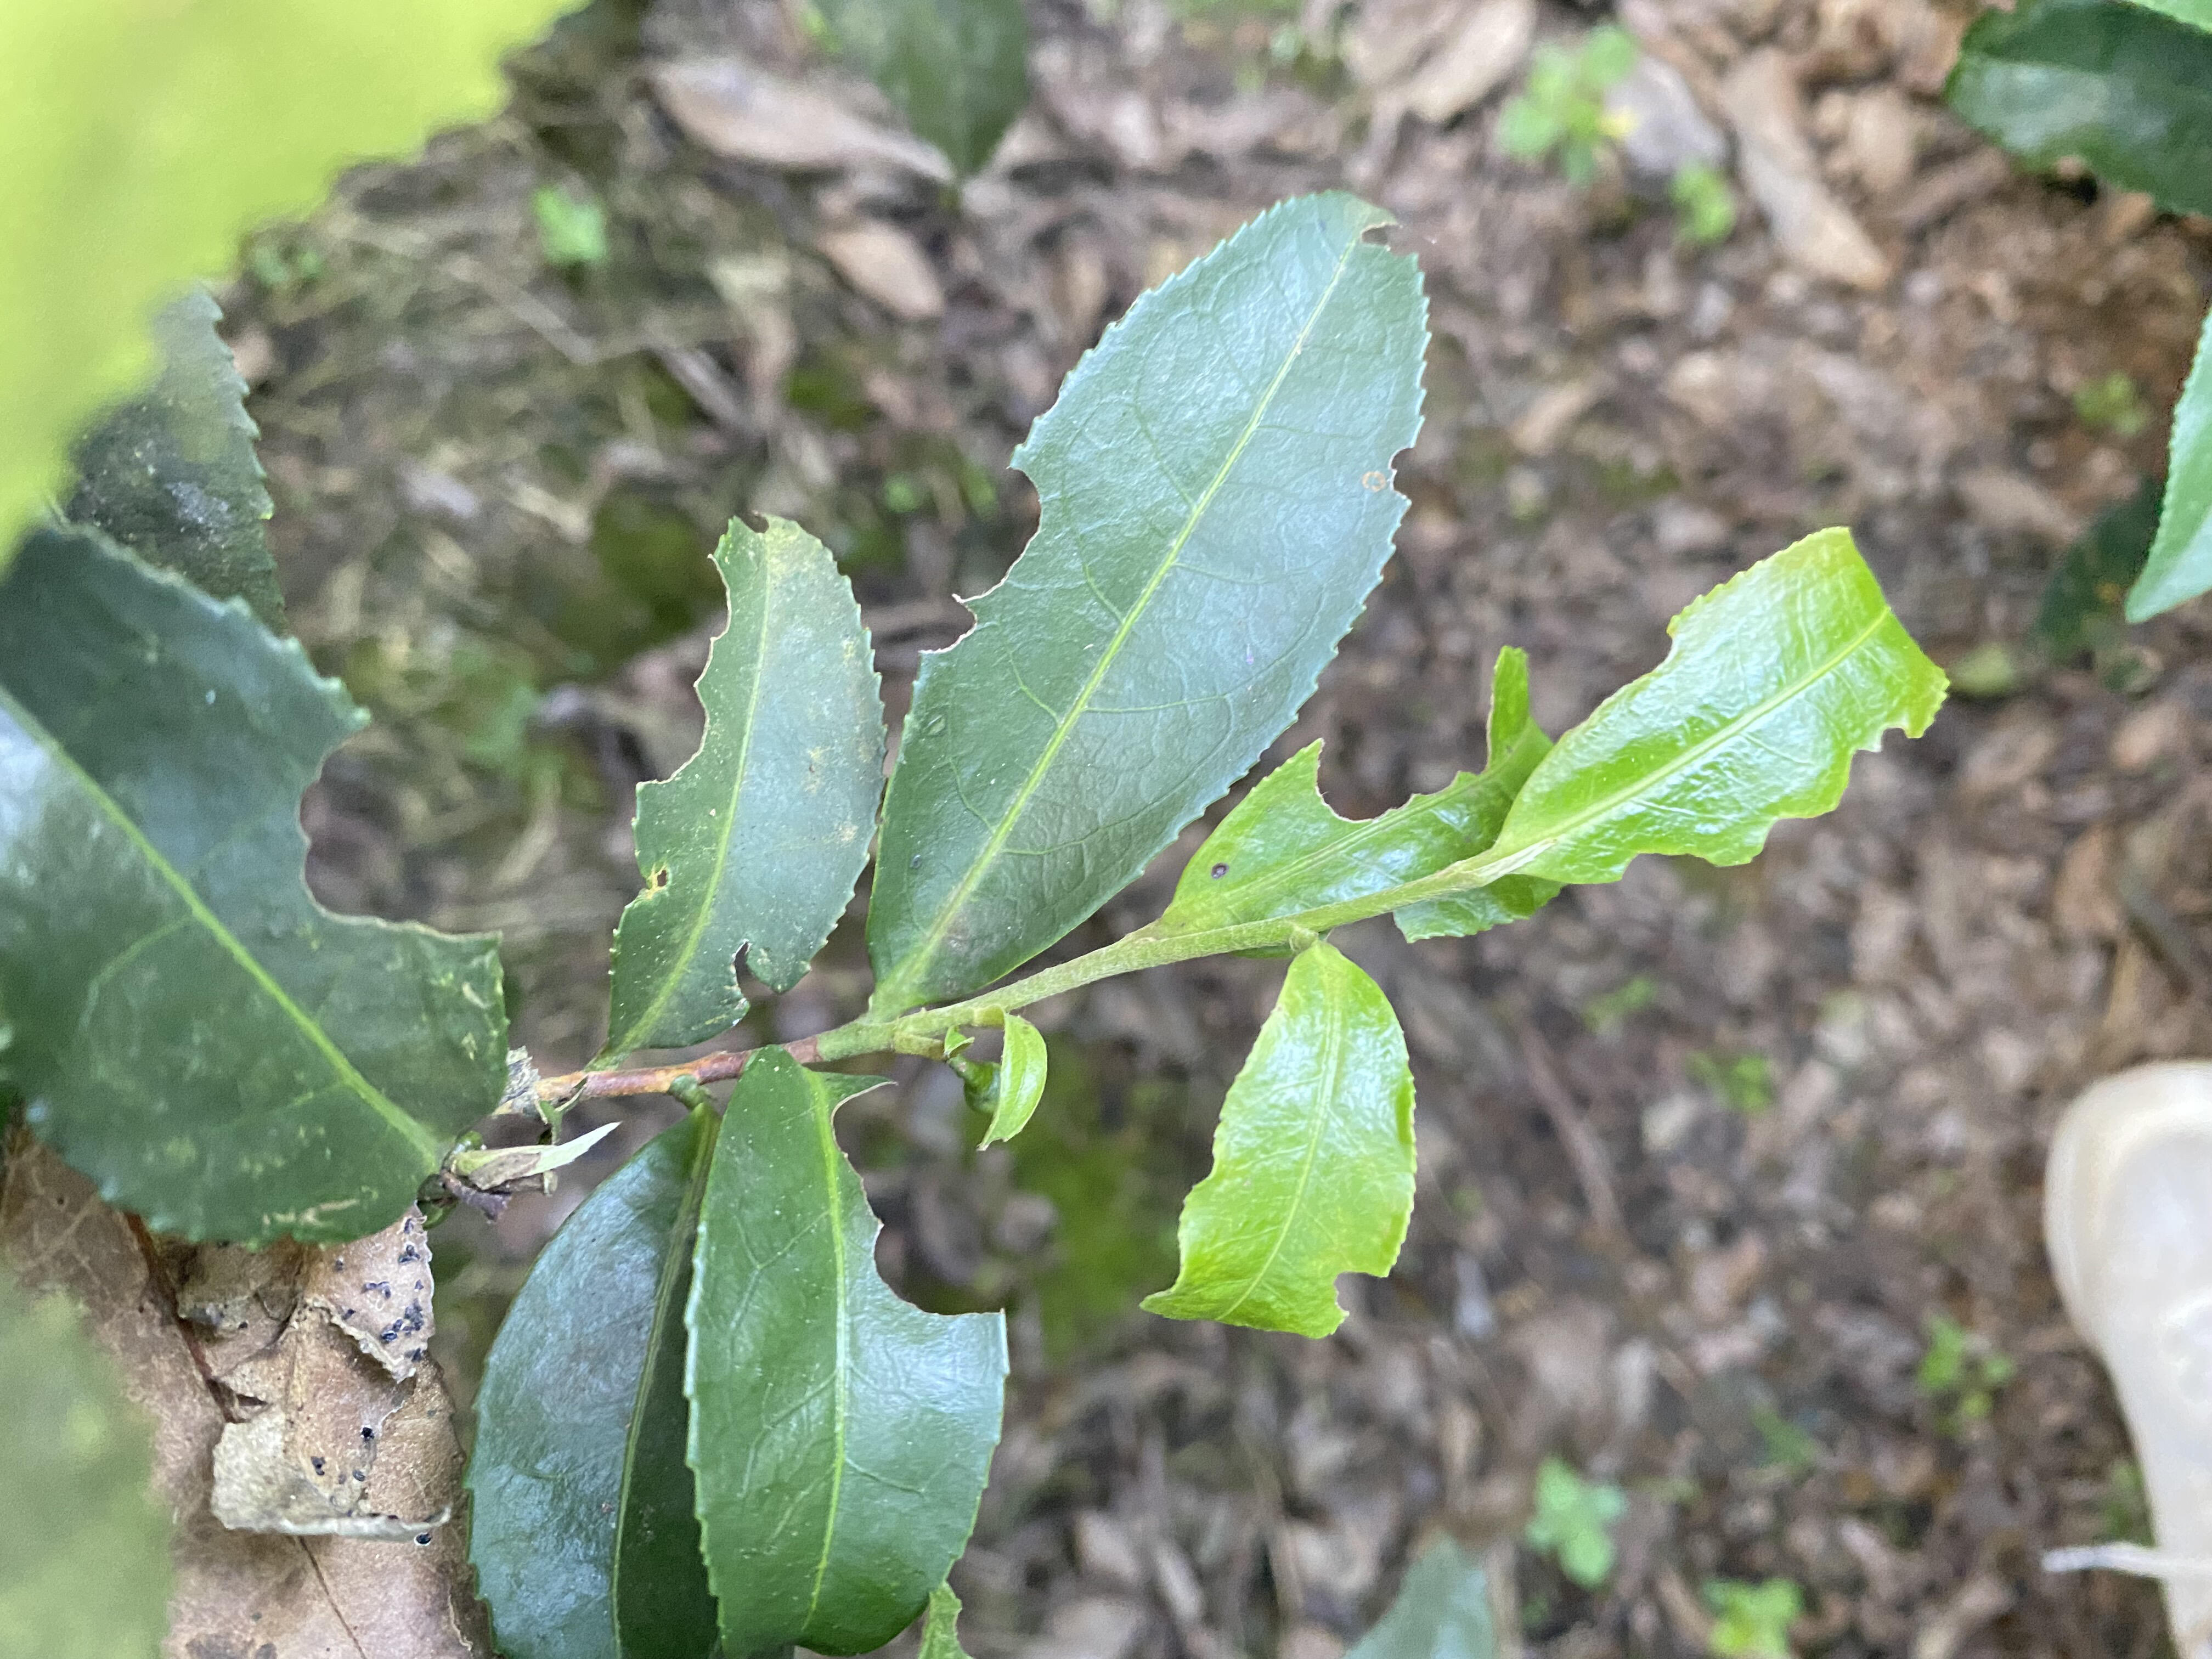chihuo_high: (867, 188, 1437, 1006), (681, 1054, 1014, 1654), (1508, 525, 1954, 887), (603, 509, 890, 1053), (1170, 645, 1559, 943)
chihuo_low: (0, 525, 514, 1253), (1136, 950, 1421, 1344)
